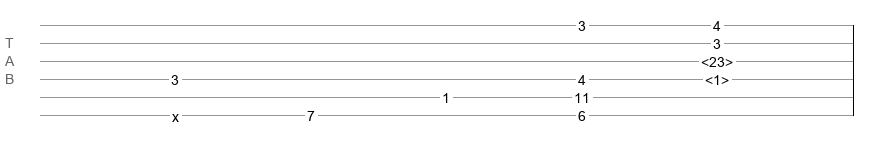1: (442, 90, 450, 100)
11: (574, 90, 590, 100)
3: (171, 72, 179, 82), (578, 18, 586, 28), (713, 36, 721, 46)
4: (578, 72, 586, 82), (713, 18, 721, 28)
6: (578, 108, 586, 118)
7: (307, 108, 315, 118)
harmonic: (701, 54, 733, 64), (705, 72, 729, 82)
x: (172, 109, 179, 117)
